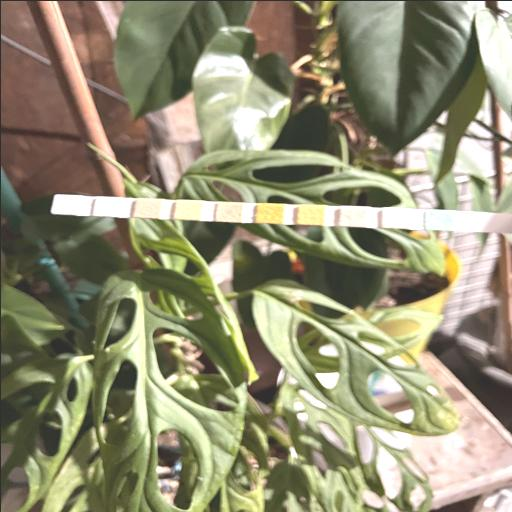Bilirubin: (382, 208, 408, 228)
Blood: (256, 203, 284, 222)
Glucose: (426, 210, 453, 228)
Ketone: (338, 206, 366, 226)
Leukocytes: (54, 194, 76, 212)
Nitrite: (96, 196, 118, 214)
Protein: (174, 200, 202, 218)
SpGravity: (297, 204, 324, 224)
Urobilinogen: (136, 198, 158, 216)
pH: (216, 202, 242, 220)
strip: (50, 193, 512, 232)
